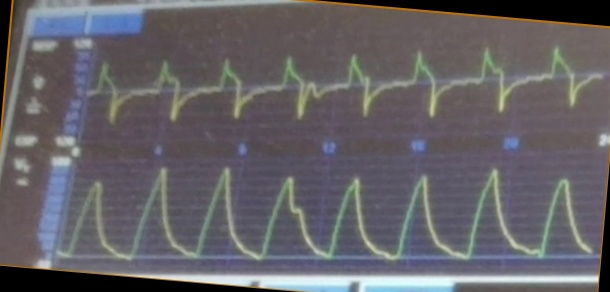Premature_cycling Flow: (94, 41, 605, 128)
Premature_cycling Volume: (73, 163, 591, 266)
